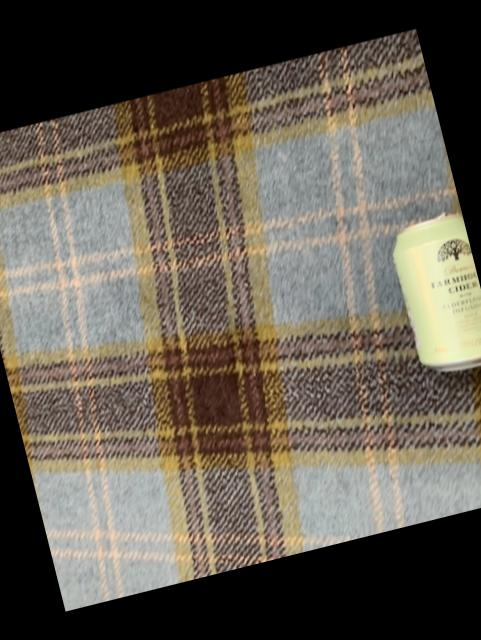metal: (391, 216, 481, 373)
